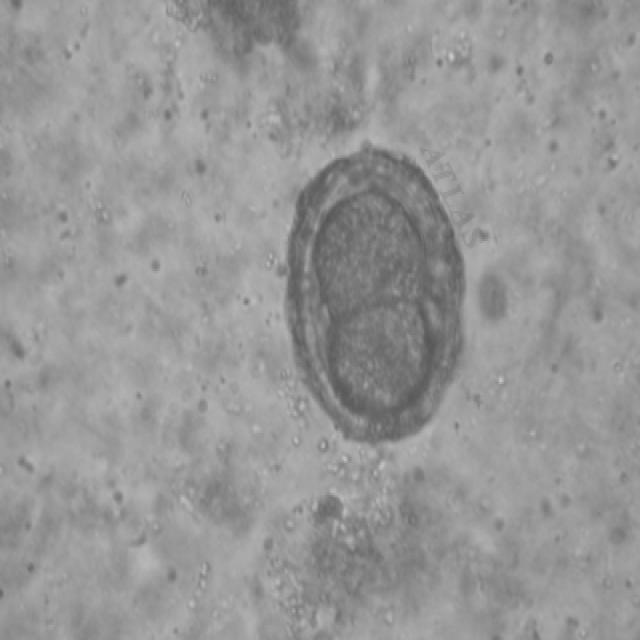Ascaris Lumbricoides: (281, 134, 471, 463)
